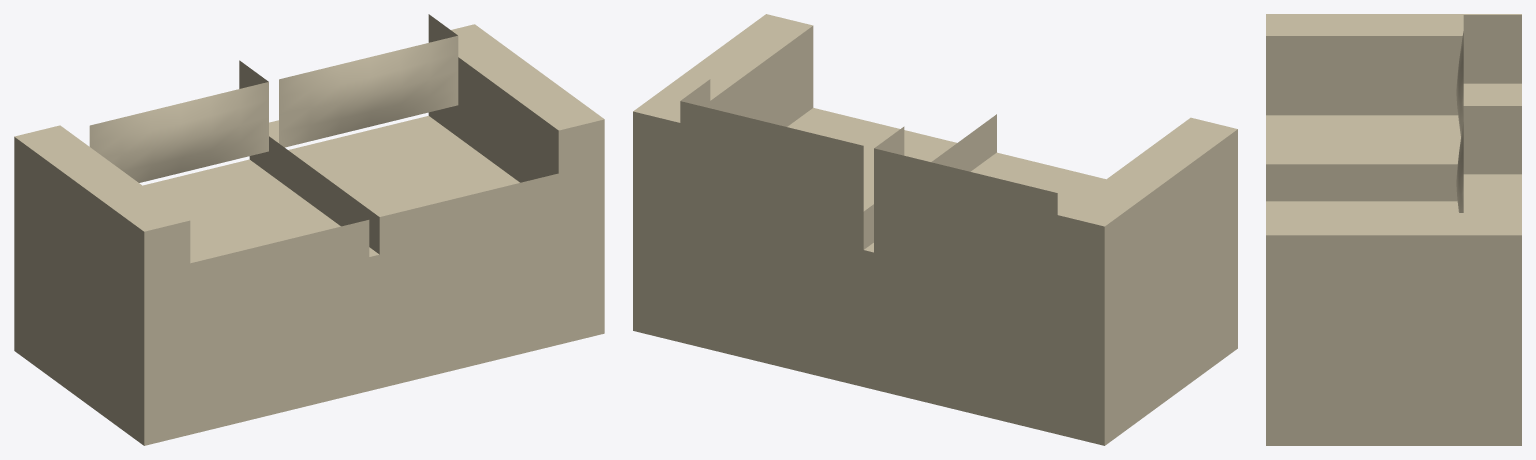
The model's file is ikea-ektorp-2.glb.
The picture shows the model from 3 angles, left to right: view 1: azimuth 30°, elevation 25°; view 2: azimuth 150°, elevation 25°; view 3: azimuth 270°, elevation 25°; orthographic projection. The views are drawn at different scales.
Bounding box in the file's own units: 1.8 × 0.88 × 0.88.
